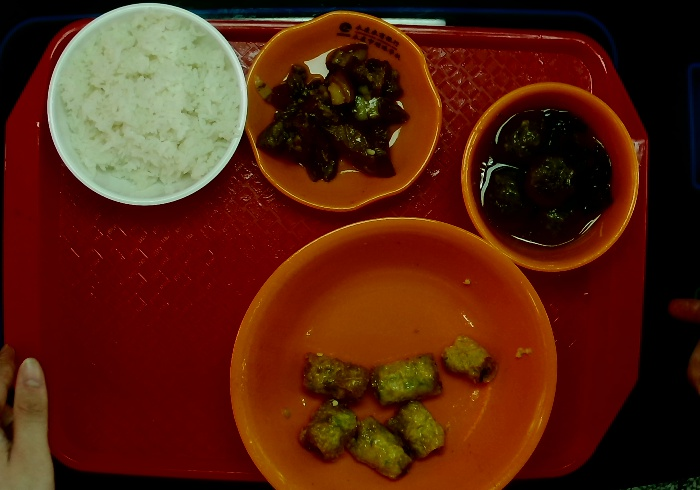YKMZ-Fan_Wan: (41, 1, 254, 219)
YKMZ-Ju_Se_Ao_Bian_Wan: (238, 6, 447, 218)
YKMZ-Ju_Se_Tang_Wan: (220, 213, 561, 490)
YKMZ-Ju_Se_Yuan_Wan: (456, 77, 643, 279)
